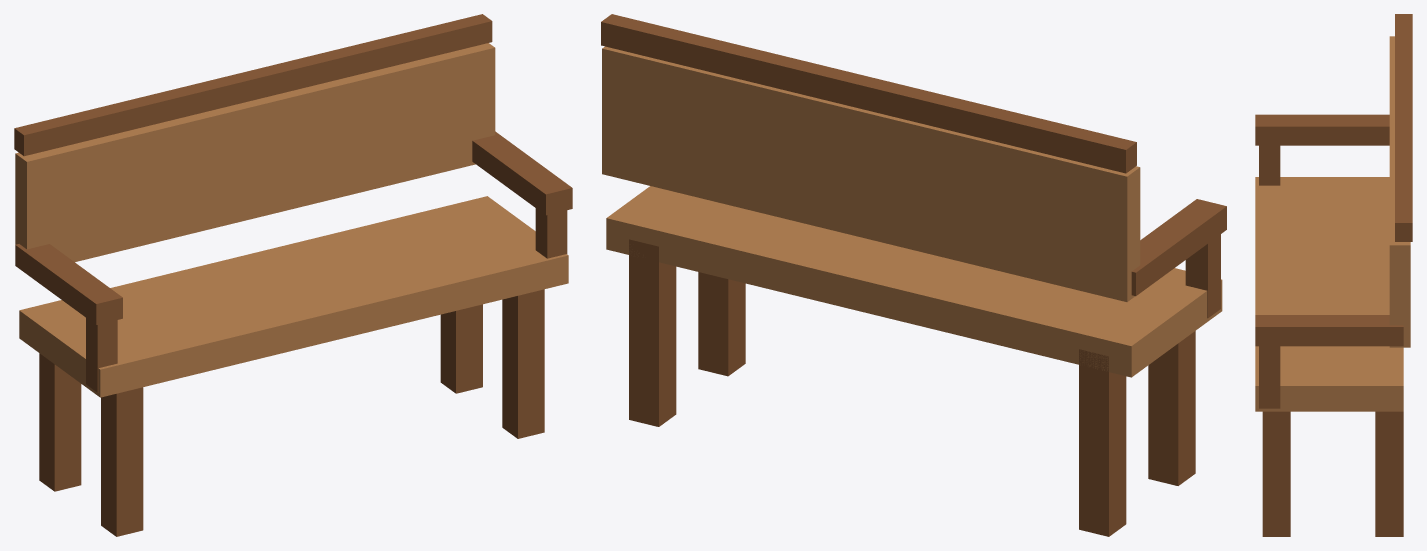
File: bench.glb
The picture shows the model from 3 angles, left to right: view 1: azimuth 30°, elevation 25°; view 2: azimuth 150°, elevation 25°; view 3: azimuth 270°, elevation 25°; orthographic projection. The views are drawn at different scales.
Parts seen in each view (by area): view 1: bench; view 2: bench; view 3: bench.
Boxes of the visible parts, left/top/right/bottom form: bench: left=14, top=14, right=572, bottom=536; bench: left=601, top=14, right=1226, bottom=536; bench: left=1255, top=14, right=1412, bottom=536.
Size of the model in its own units: 1.42 by 1.01 by 0.445.
